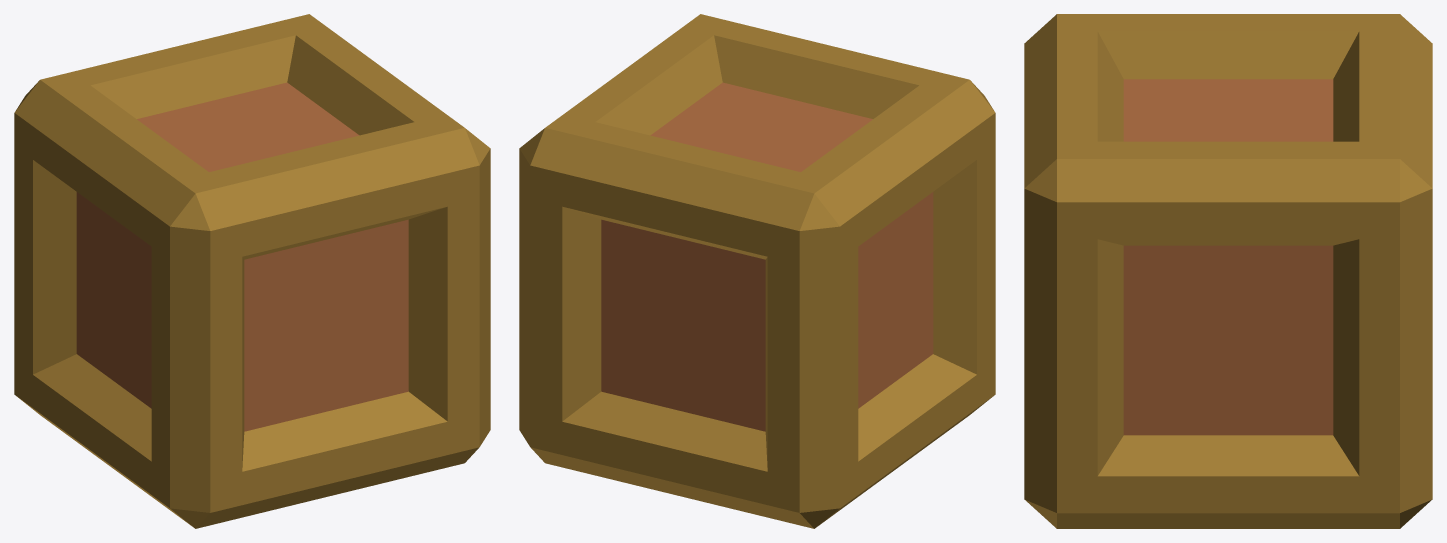
The model's file is crateItem.glb.
3 renders of one model, left to right at view 1: azimuth 30°, elevation 25°; view 2: azimuth 150°, elevation 25°; view 3: azimuth 270°, elevation 25°, orthographic. The views are drawn at different scales.
Parts seen in each view (by area): view 1: crateItem; view 2: crateItem; view 3: crateItem.
Part boxes in pixels (bbox=[...]): crateItem: bbox=[14, 14, 490, 528]; crateItem: bbox=[519, 14, 995, 528]; crateItem: bbox=[1024, 14, 1432, 528].
Bounding box in the file's own units: 0.5 × 0.5 × 0.5.
